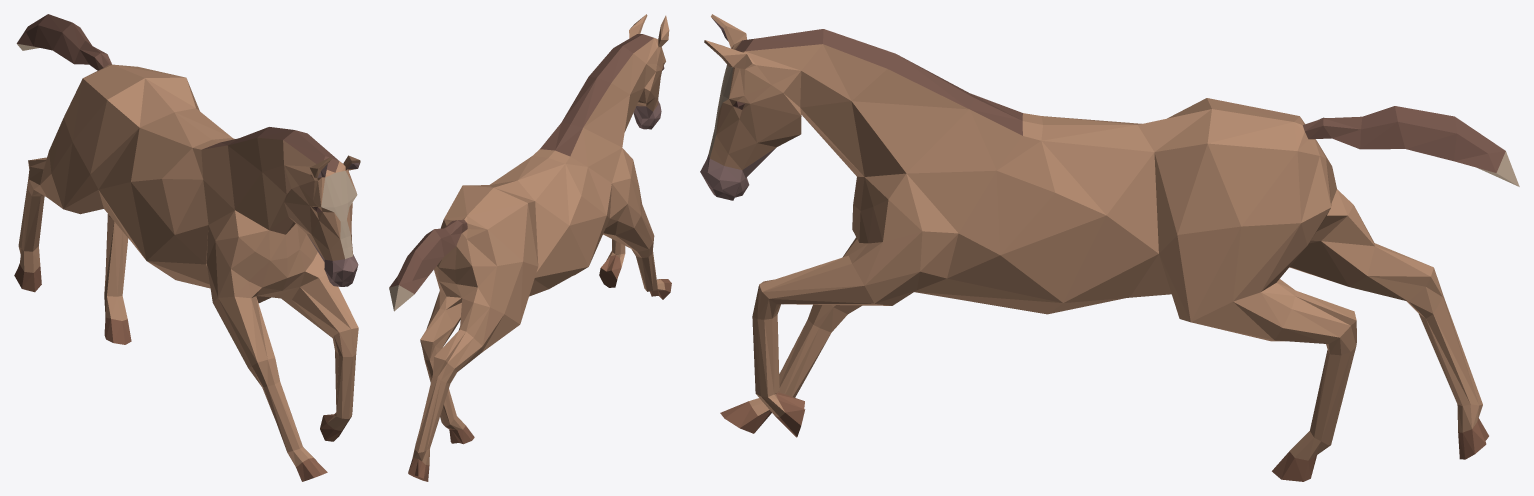
The model's file is Horse.glb.
3 views of the same model, side by side, from view 1: azimuth 30°, elevation 25°; view 2: azimuth 150°, elevation 25°; view 3: azimuth 270°, elevation 25° (orthographic). The views are drawn at different scales.
Parts seen in each view (by area): view 1: mesh_0; view 2: mesh_0; view 3: mesh_0.
Part boxes in pixels (x1,y1,x2,y2): mesh_0: (14,14,360,481); mesh_0: (389,14,671,481); mesh_0: (700,14,1519,481).
Bounding box in the file's own units: 59.49 × 173 × 285.
